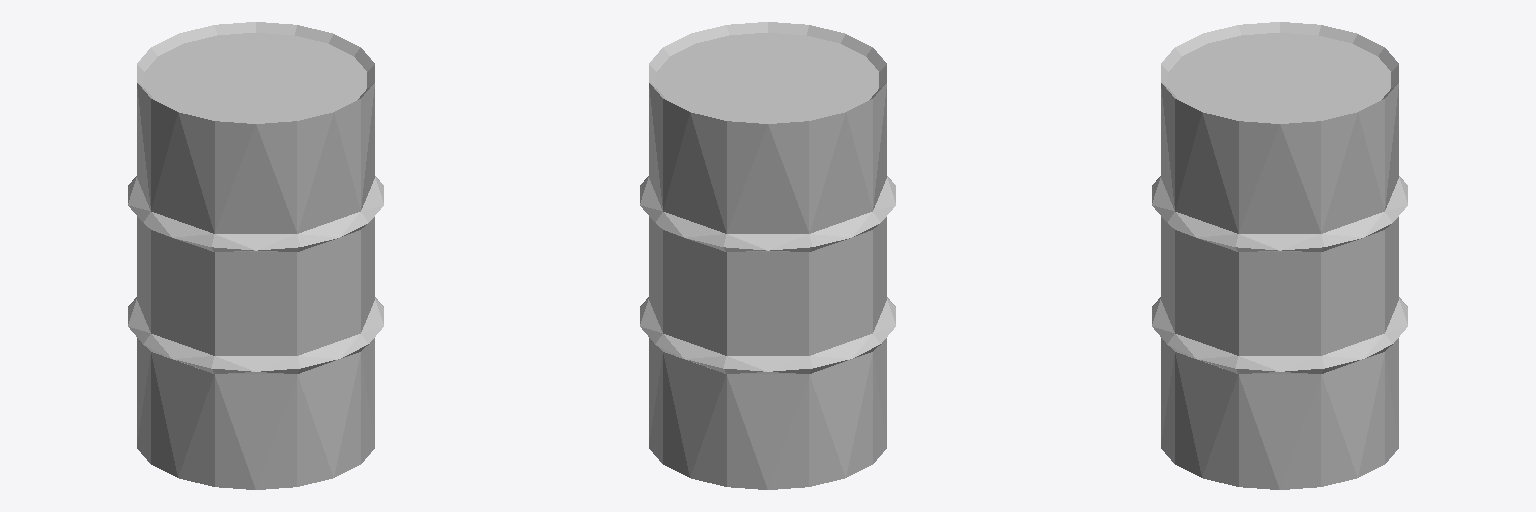
Rendered from Barrel.obj.
3 renders of one model, left to right at view 1: azimuth 30°, elevation 25°; view 2: azimuth 150°, elevation 25°; view 3: azimuth 270°, elevation 25°, orthographic.
Visible parts, largest first — view 1: default; view 2: default; view 3: default.
Part boxes in pixels (x1,y1,x2,y2): default: (128,22,383,489); default: (640,22,895,489); default: (1152,22,1407,489).
Bounding box in the file's own units: 64.49 × 100 × 63.51.